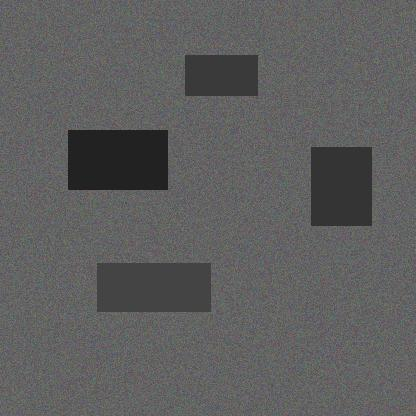empty: (114, 65, 175, 115)
occupied: (228, 286, 285, 335)
